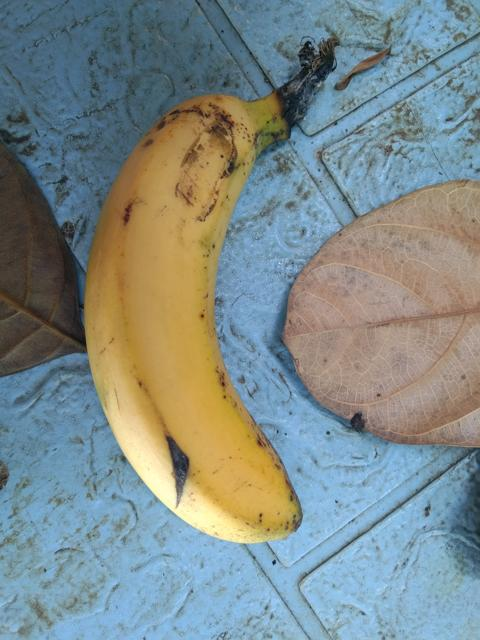ripe: (73, 72, 331, 587)
